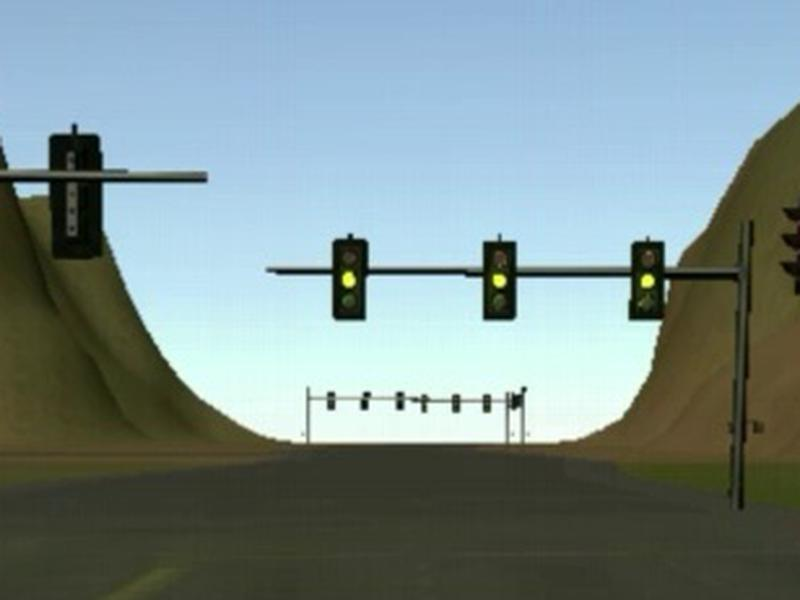Yellow: (331, 238, 366, 319), (629, 241, 664, 319), (483, 241, 517, 319)
